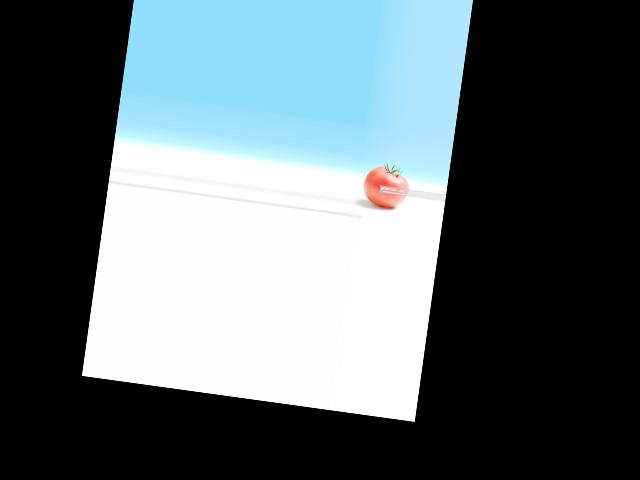tomato: (361, 164, 412, 209)
